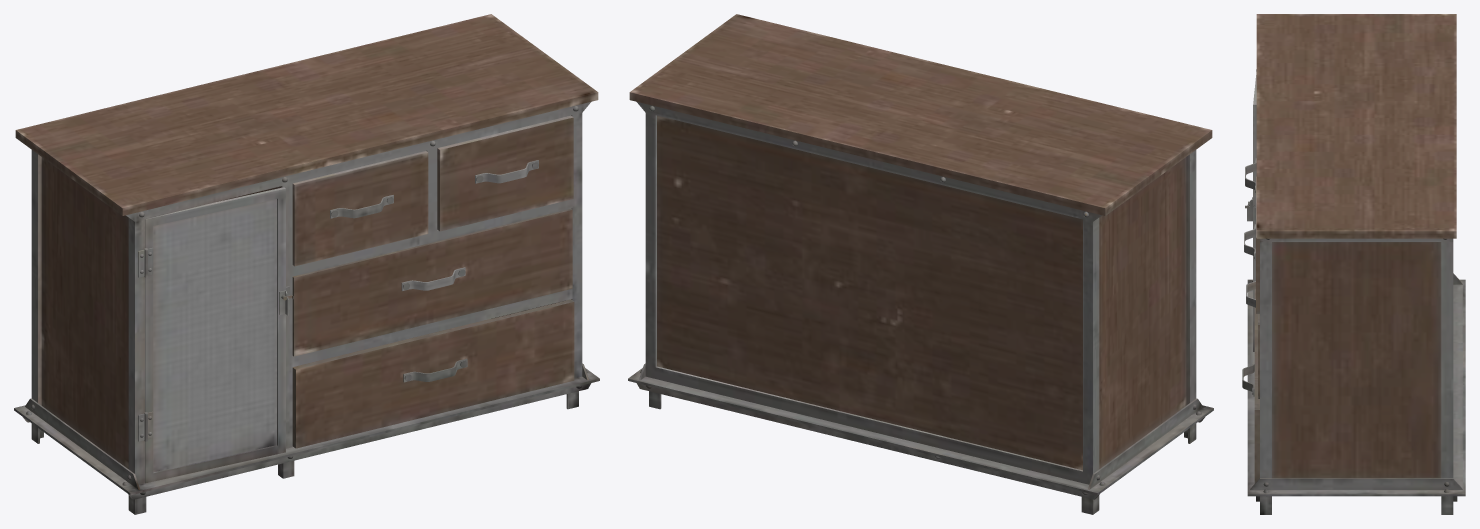
File: WoodenTable_03.l.75468f7e.glb
The picture shows the model from 3 angles, left to right: view 1: azimuth 30°, elevation 25°; view 2: azimuth 150°, elevation 25°; view 3: azimuth 270°, elevation 25°; orthographic projection. The views are drawn at different scales.
Parts seen in each view (by area): view 1: WoodenTable_03_body, WoodenTable_03_door, WoodenTable_03_drawer04, WoodenTable_03_drawer03, WoodenTable_03_drawer02, WoodenTable_03_drawer01; view 2: WoodenTable_03_body; view 3: WoodenTable_03_body, WoodenTable_03_drawer04, WoodenTable_03_door, WoodenTable_03_drawer02, WoodenTable_03_drawer03.
Boxes of the visible parts, x1,y1,x2,y2 form: WoodenTable_03_body: (14, 14, 599, 514); WoodenTable_03_door: (144, 187, 293, 483); WoodenTable_03_drawer04: (292, 299, 574, 448); WoodenTable_03_drawer03: (292, 209, 572, 356); WoodenTable_03_drawer02: (437, 115, 573, 231); WoodenTable_03_drawer01: (292, 151, 428, 266); WoodenTable_03_body: (628, 14, 1213, 514); WoodenTable_03_body: (1247, 14, 1465, 514); WoodenTable_03_drawer04: (1242, 289, 1259, 483); WoodenTable_03_door: (1245, 69, 1256, 351); WoodenTable_03_drawer02: (1244, 176, 1259, 313); WoodenTable_03_drawer03: (1246, 281, 1259, 398).
Bounding box in the file's own units: 1.33 × 0.83 × 0.5753.
Materials: 1 (1 with a texture image).
